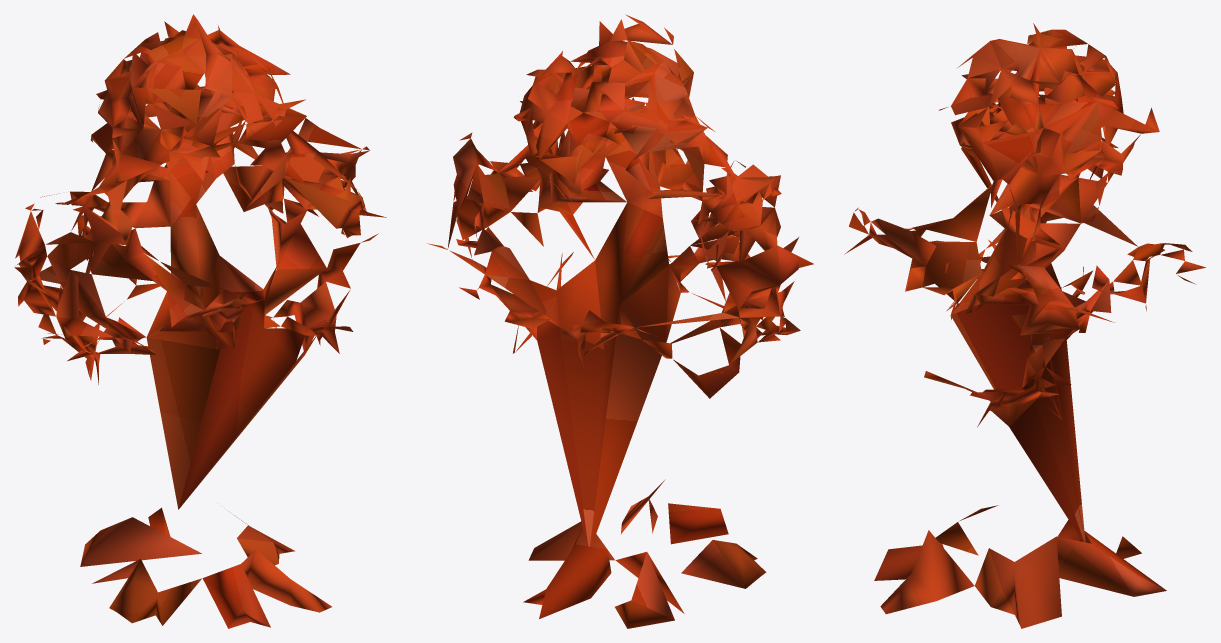
Rendered from tree_autumn_shadow.glb.
3 renders of one model, left to right at view 1: azimuth 30°, elevation 25°; view 2: azimuth 150°, elevation 25°; view 3: azimuth 270°, elevation 25°, orthographic. The views are drawn at different scales.
Parts seen in each view (by area): view 1: plant; view 2: plant; view 3: plant.
Boxes of the visible parts, left/top/right/bottom form: plant: left=14, top=14, right=386, bottom=628; plant: left=427, top=14, right=813, bottom=628; plant: left=844, top=23, right=1205, bottom=628.
Size of the model in its own units: 3.23 by 4.49 by 2.6.
1 material, 1 textured.
